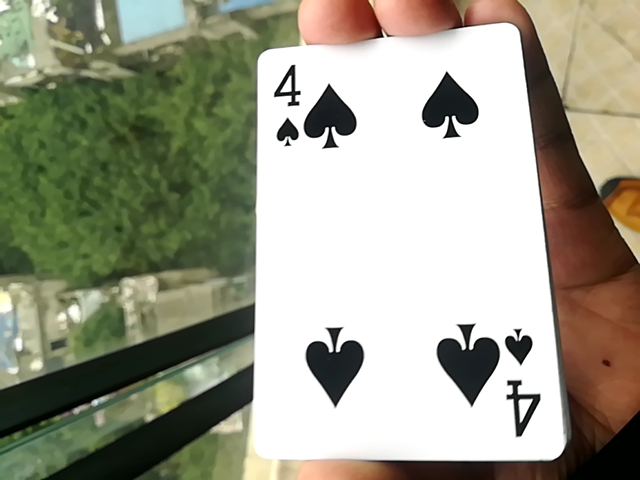ht 4: (238, 37, 577, 465)
